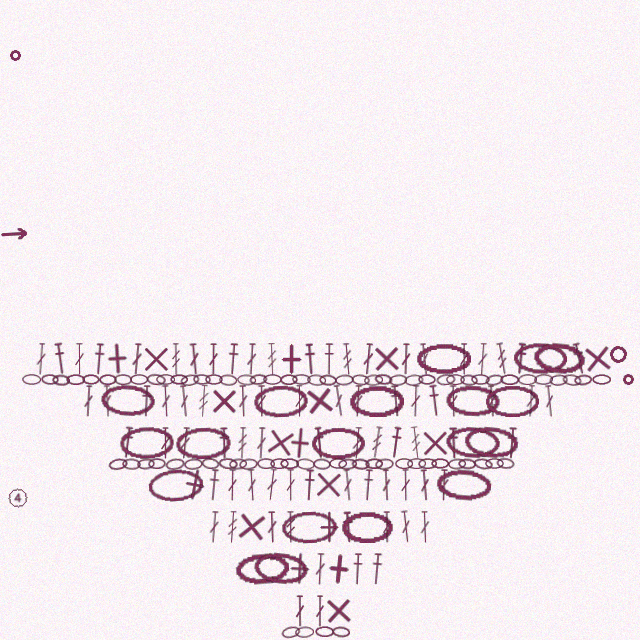chain: (252, 550, 310, 587), (463, 424, 520, 461), (147, 467, 205, 503), (435, 467, 492, 503), (532, 340, 587, 377), (234, 551, 290, 587), (281, 510, 338, 544), (175, 426, 232, 460), (445, 425, 500, 460), (100, 383, 155, 418), (445, 384, 501, 418), (253, 384, 308, 418), (119, 426, 174, 459), (513, 342, 567, 375), (311, 427, 366, 459), (349, 385, 404, 417), (416, 343, 471, 375), (485, 385, 539, 417), (341, 511, 394, 543), (281, 625, 301, 639), (108, 457, 128, 471), (165, 457, 185, 471), (473, 457, 493, 471), (180, 373, 200, 387), (562, 373, 582, 387), (485, 373, 504, 387), (218, 457, 238, 470), (146, 373, 166, 386), (436, 373, 456, 386), (201, 457, 220, 470), (496, 457, 515, 470), (249, 373, 268, 386), (374, 373, 393, 386), (404, 374, 424, 386), (295, 626, 314, 638), (122, 458, 141, 470), (184, 458, 203, 470), (239, 458, 258, 470), (296, 458, 315, 470), (338, 458, 357, 470), (351, 458, 370, 470), (375, 458, 394, 470), (237, 374, 256, 386), (307, 374, 326, 386), (335, 374, 354, 386), (351, 374, 370, 386), (364, 374, 383, 386), (549, 374, 568, 386), (332, 626, 350, 638), (137, 458, 155, 470), (229, 458, 247, 470), (313, 458, 331, 470), (448, 458, 466, 470), (458, 458, 476, 470), (52, 374, 70, 386), (219, 374, 237, 386), (319, 374, 337, 386), (389, 374, 407, 386), (460, 374, 478, 386), (574, 374, 592, 386), (315, 626, 334, 637), (270, 458, 289, 469), (280, 458, 299, 469), (407, 458, 426, 469), (418, 458, 437, 469), (485, 458, 504, 469), (22, 374, 41, 385), (66, 374, 85, 385), (156, 374, 175, 385), (263, 374, 282, 385), (292, 374, 311, 385), (446, 374, 465, 385), (471, 374, 490, 385), (500, 374, 519, 385), (518, 374, 537, 385), (534, 374, 553, 385), (592, 374, 611, 385), (148, 458, 166, 469), (257, 458, 275, 469), (329, 458, 347, 469), (365, 458, 383, 469), (395, 458, 413, 469), (431, 458, 449, 469), (41, 374, 59, 385), (82, 374, 100, 385), (99, 374, 117, 385), (114, 374, 132, 385), (130, 374, 148, 385), (170, 374, 188, 385), (193, 374, 211, 385), (205, 374, 223, 385), (280, 374, 298, 385), (418, 374, 436, 385)
double: (399, 510, 413, 543), (265, 468, 279, 501), (332, 384, 346, 417), (178, 427, 192, 459), (361, 343, 375, 375), (351, 427, 364, 459), (178, 385, 191, 417), (543, 385, 556, 417), (188, 343, 201, 375), (418, 343, 431, 375), (476, 343, 489, 375), (314, 553, 326, 585), (208, 511, 220, 543), (266, 511, 278, 543), (419, 511, 431, 543), (246, 469, 258, 501), (342, 469, 354, 501), (419, 469, 431, 501), (438, 469, 450, 501), (160, 385, 172, 417), (237, 385, 249, 417), (352, 385, 364, 417), (486, 385, 498, 417), (525, 385, 537, 417), (35, 343, 47, 375), (131, 343, 143, 375), (227, 469, 238, 501), (285, 469, 296, 501), (381, 469, 392, 501), (400, 469, 411, 501), (160, 427, 171, 459), (256, 427, 267, 459), (83, 385, 94, 417), (102, 385, 113, 417), (256, 385, 267, 417), (294, 385, 305, 417), (410, 385, 421, 417), (448, 385, 459, 417), (74, 343, 85, 375), (208, 343, 219, 375), (246, 343, 257, 375), (295, 595, 305, 627), (315, 595, 325, 627), (382, 511, 392, 543), (401, 343, 411, 375), (459, 343, 469, 375)
half_double: (570, 342, 588, 375), (388, 426, 404, 459), (52, 342, 68, 375), (120, 426, 135, 459), (312, 426, 327, 459), (427, 384, 442, 417), (513, 342, 528, 375), (370, 553, 384, 585), (341, 511, 355, 543), (207, 469, 221, 501), (361, 469, 375, 501), (505, 427, 519, 459), (389, 385, 403, 417), (92, 343, 106, 375), (226, 343, 240, 375), (303, 343, 317, 375), (351, 553, 364, 585), (303, 469, 316, 501), (447, 427, 460, 459), (140, 385, 153, 417), (218, 427, 230, 459), (323, 343, 335, 375)
noise: (6, 486, 30, 510), (607, 343, 629, 365), (0, 228, 29, 240), (622, 373, 635, 386), (9, 49, 21, 61)
single: (176, 466, 213, 503), (262, 424, 299, 461), (234, 509, 269, 544), (302, 383, 337, 418), (580, 341, 615, 376), (322, 552, 356, 586), (283, 426, 317, 460), (322, 594, 355, 627), (283, 552, 316, 585), (312, 468, 345, 501), (101, 342, 134, 375), (370, 342, 403, 375), (313, 511, 345, 543), (419, 427, 451, 459), (208, 385, 240, 417), (140, 343, 172, 375), (275, 343, 307, 375)
treble: (494, 342, 510, 375), (370, 426, 384, 459), (409, 426, 423, 459), (226, 511, 239, 543), (197, 385, 210, 417), (341, 343, 354, 375), (266, 343, 278, 375), (285, 511, 296, 543), (237, 427, 248, 459), (171, 343, 181, 375)
